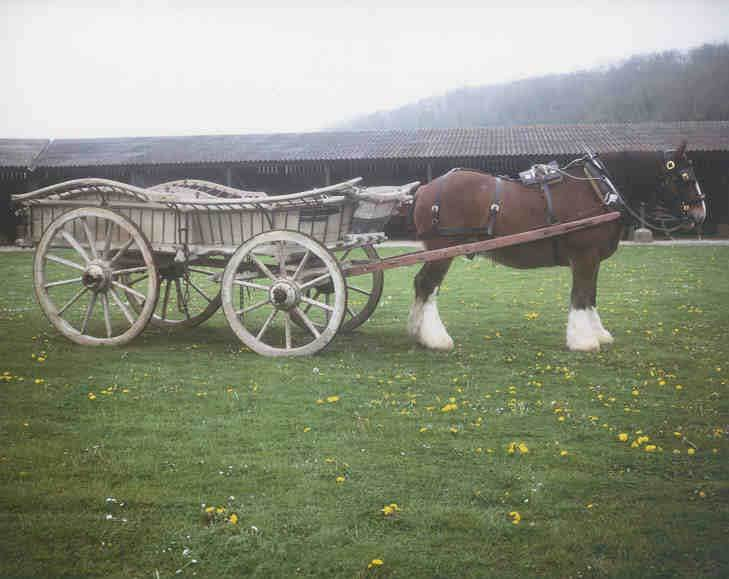horse: (403, 135, 710, 355)
